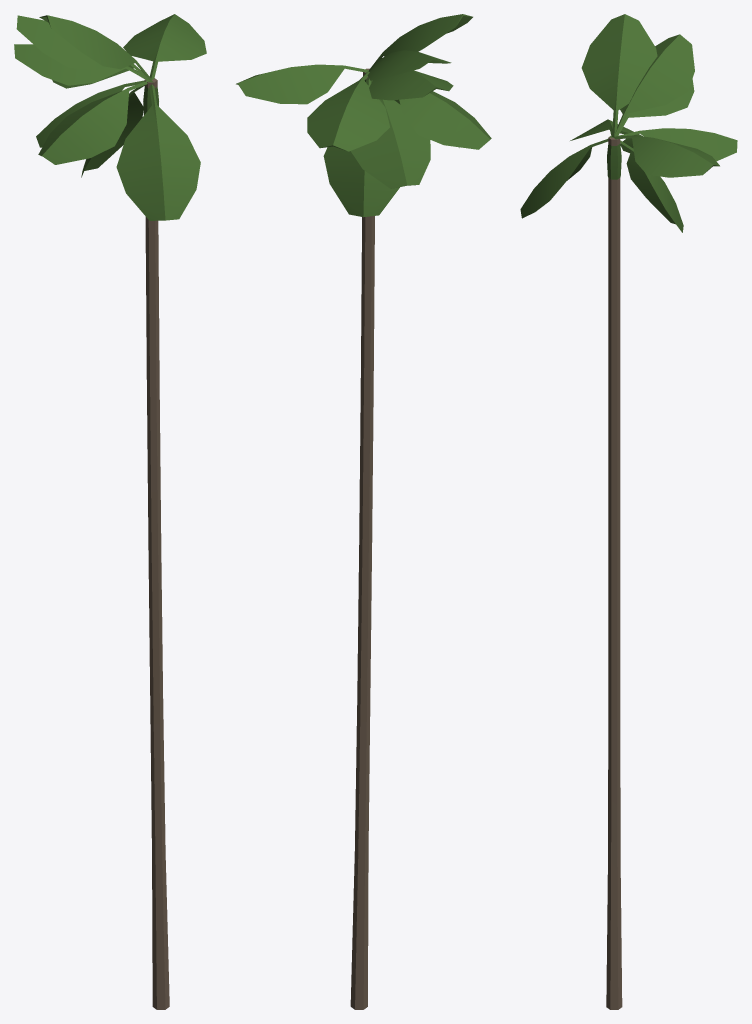
The model's file is areca_palm.mid.glb.
The picture shows the model from 3 angles, left to right: view 1: azimuth 30°, elevation 25°; view 2: azimuth 150°, elevation 25°; view 3: azimuth 270°, elevation 25°; orthographic projection. The views are drawn at different scales.
Visible parts, largest first — view 1: areca_palm; view 2: areca_palm; view 3: areca_palm.
Part boxes in pixels (box(x1,y1,x2,y2)): areca_palm: box(14, 14, 206, 1009); areca_palm: box(236, 14, 491, 1009); areca_palm: box(520, 14, 737, 1009).
Bounding box in the file's own units: 2.7 × 13.1 × 2.73.
